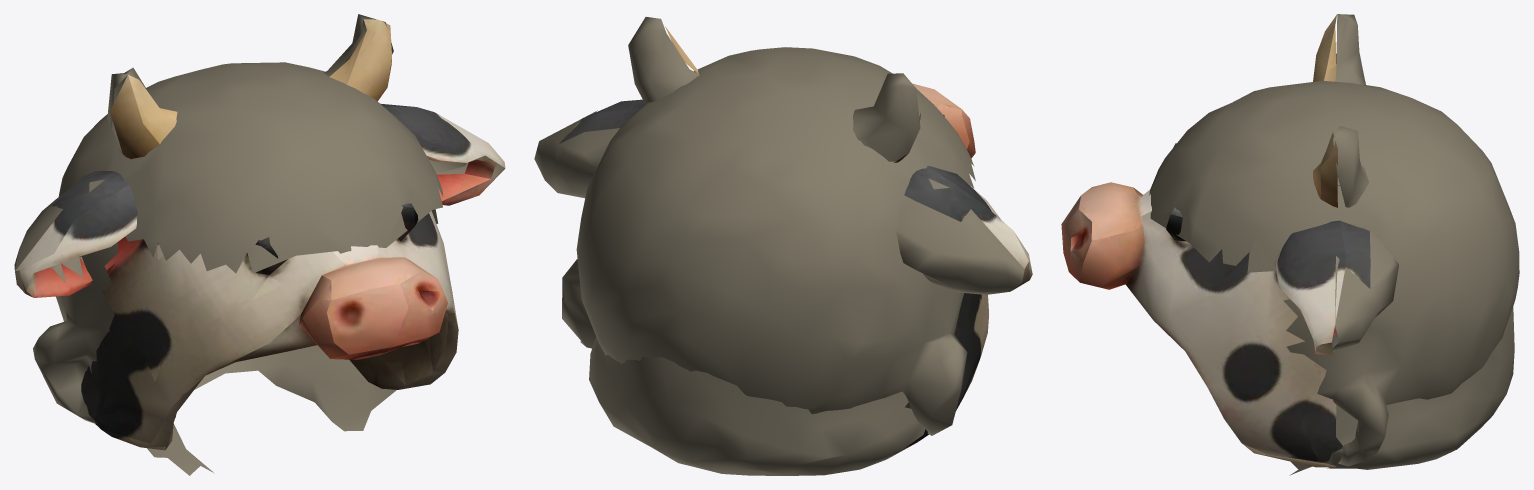
File: cow.glb
3 renders of one model, left to right at view 1: azimuth 30°, elevation 25°; view 2: azimuth 150°, elevation 25°; view 3: azimuth 270°, elevation 25°, orthographic. The views are drawn at different scales.
Parts seen in each view (by area): view 1: geometry_0, HoodAnatomicalLining; view 2: HoodAnatomicalLining, geometry_0; view 3: HoodAnatomicalLining, geometry_0.
Part boxes in pixels (x1,y1,x2,y2): geometry_0: [14, 14, 505, 450]; HoodAnatomicalLining: [33, 62, 443, 475]; HoodAnatomicalLining: [562, 47, 975, 435]; geometry_0: [534, 17, 1032, 475]; HoodAnatomicalLining: [1149, 80, 1519, 475]; geometry_0: [1061, 14, 1514, 469].
Bounding box in the file's own units: 0.5744 × 0.4494 × 0.4997.
2 materials, 1 textured.
